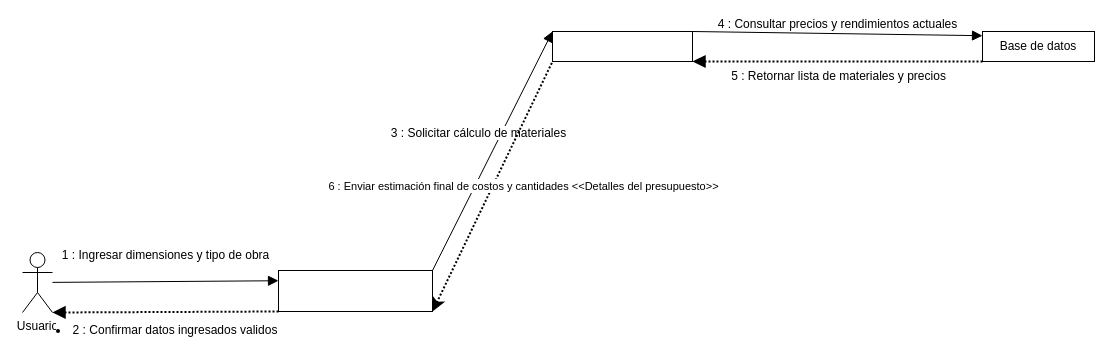
The diagram is 1112 pixels wide and 355 high, and some of its shapes have lost their labels. The centre of each missing label's shape, as x and y in pixels:
"Motor de Calculo" belongs at (622,46).
"Simulador UI" belongs at (355,291).
